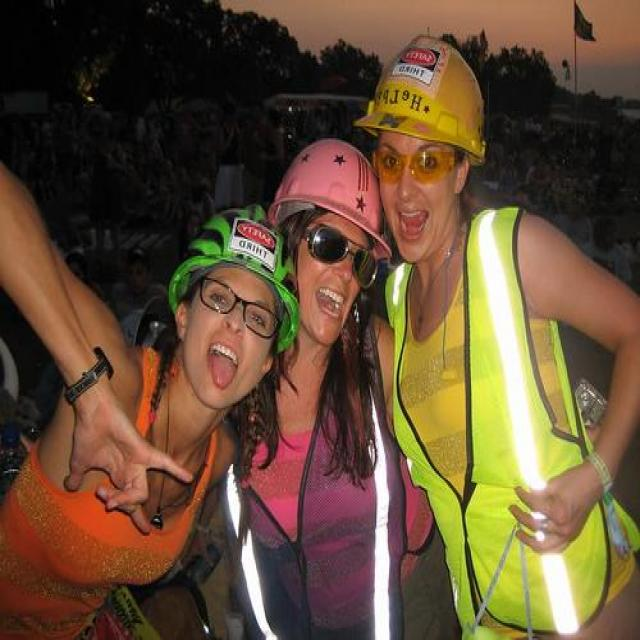Reflective-Jacket: (386, 206, 628, 636)
Safety-Helmet: (354, 32, 496, 166), (165, 203, 297, 318), (265, 133, 383, 249)
